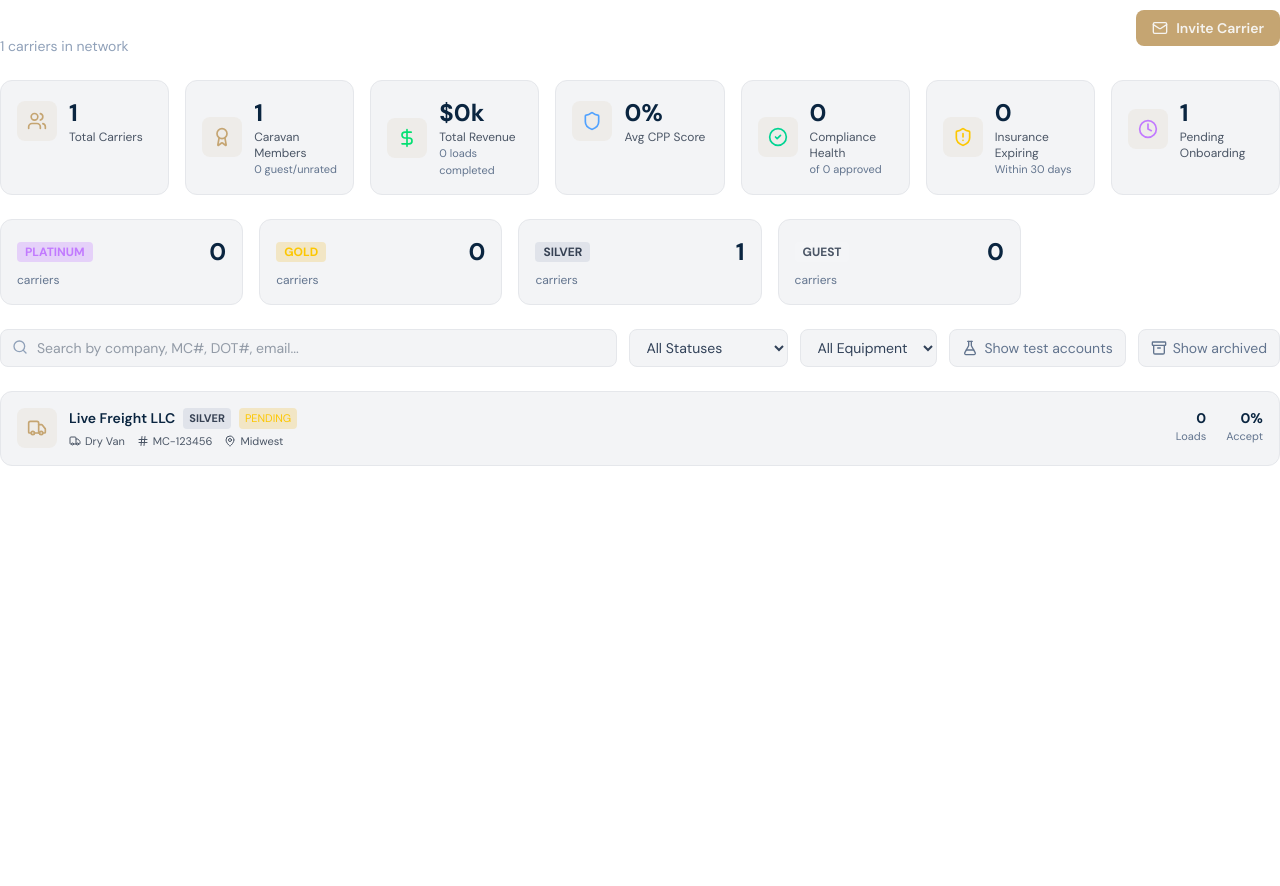
Scenario: Terminating an agreement says what it ends › the Quick Pay dialog says Quick Pay stops and tendering does not, and so does the banner
Expected: the text "Live Freight LLC" is shown, [69,408,175,428]
Click the button "Live Freight LLC": (37, 428) [0,391,1279,466]
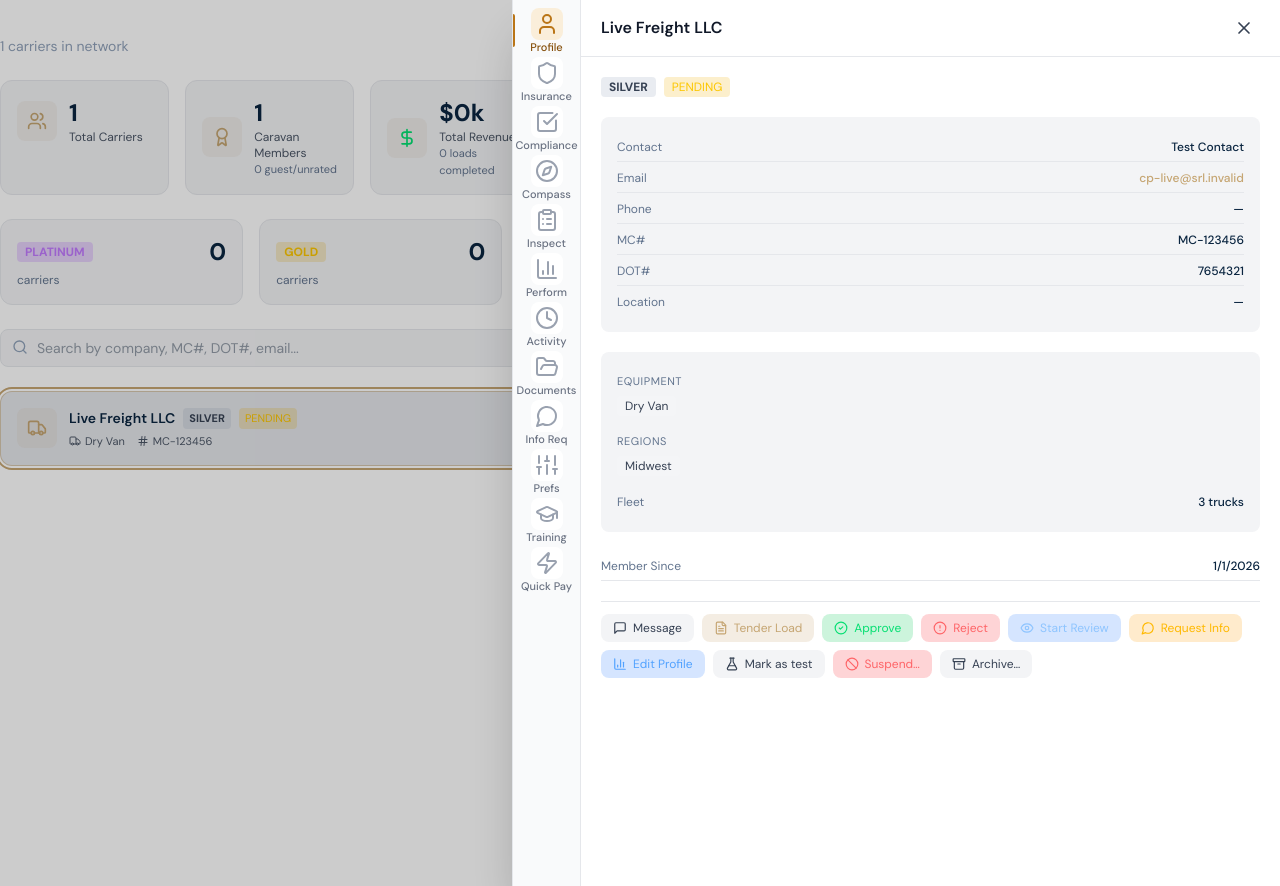
Click the button "Compliance": (546, 128) [513,106,580,151]
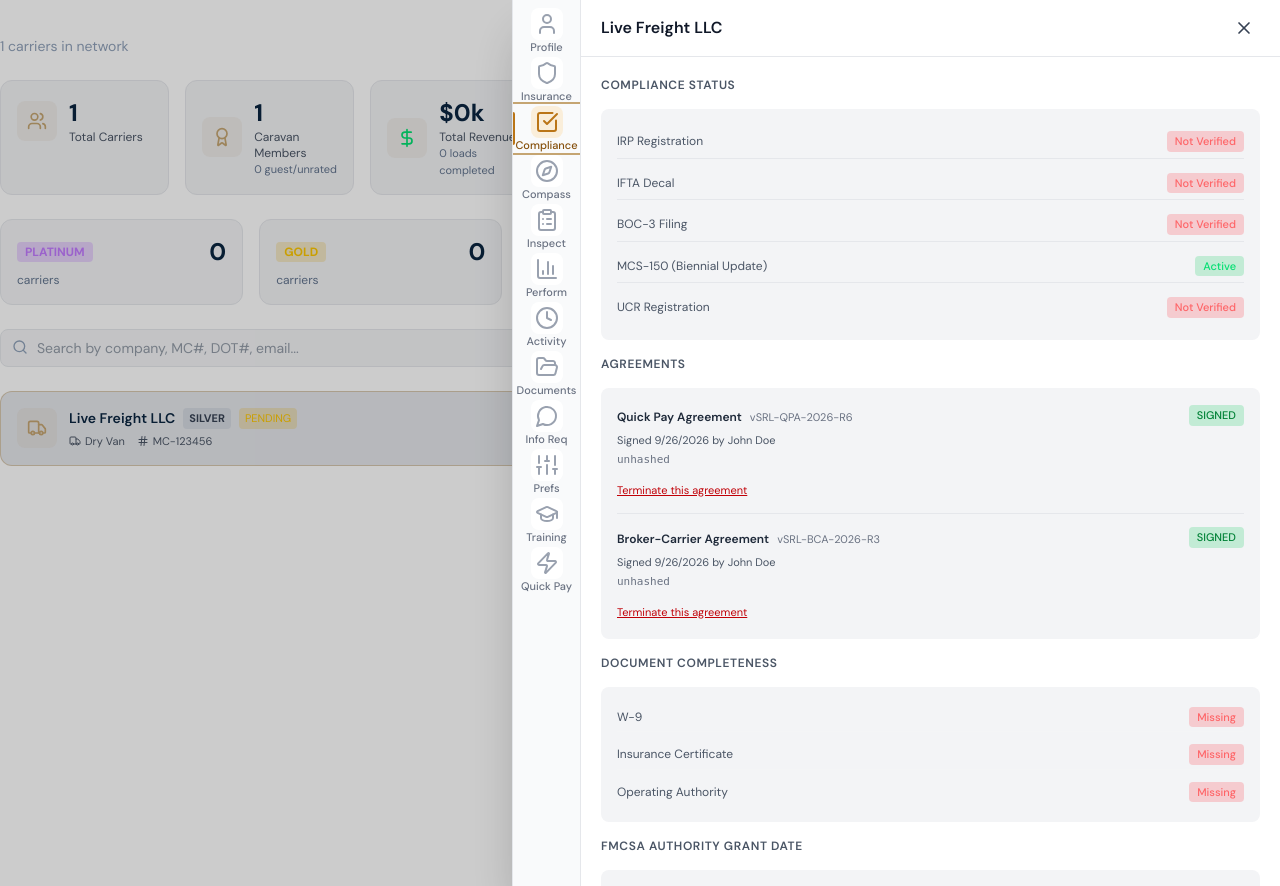
Now the number of buttons "Terminate this agreement" is 2
Click the button "Terminate this agreement" below "Quick Pay Agreement": (682, 490) [617,482,747,498]
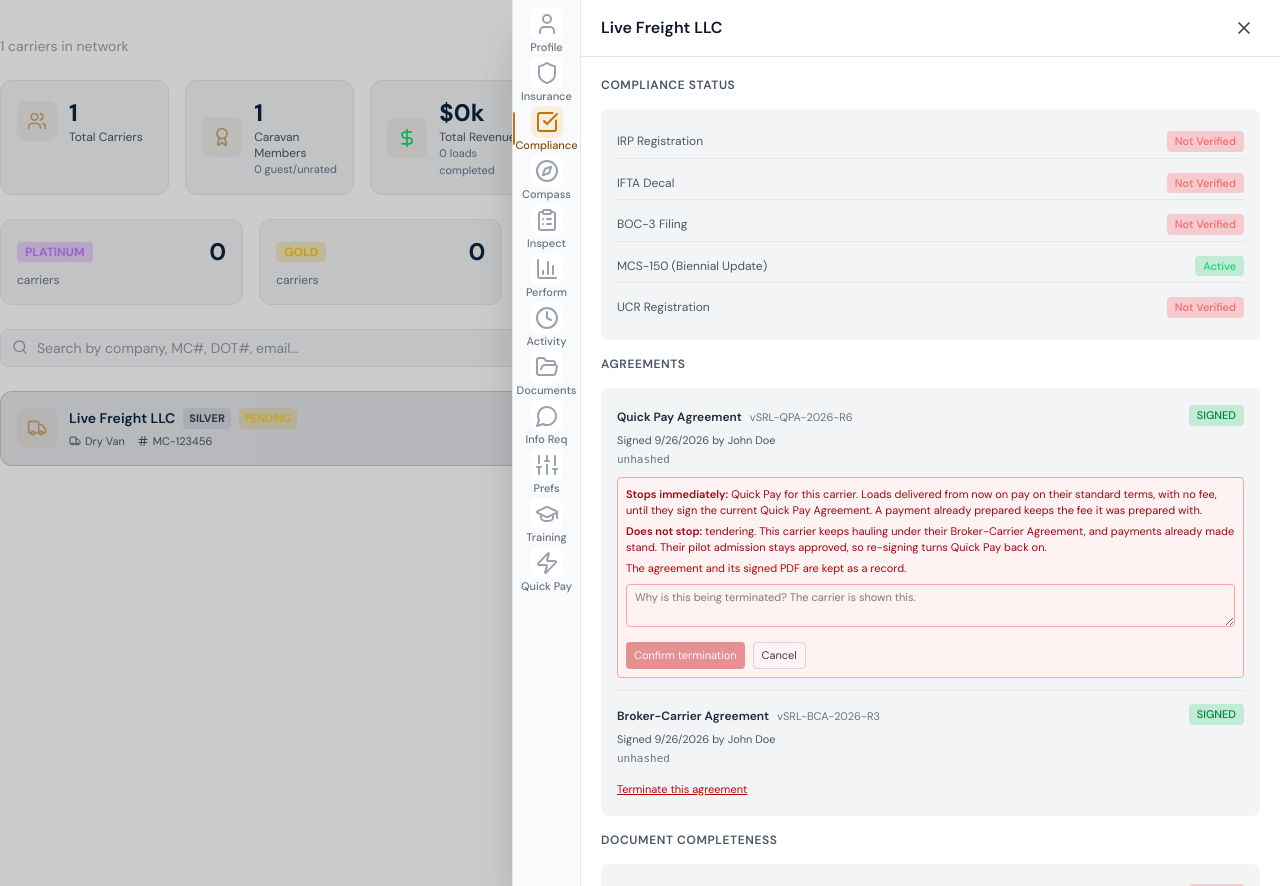
Now the dialog shows "Quick Pay for this carrier", box [626,486,1217,517]
In the text box with placeholder "Why is this being terminated? The carrier is shown this.": (930, 606) [626,584,1235,627], type "Reversing a test signature"
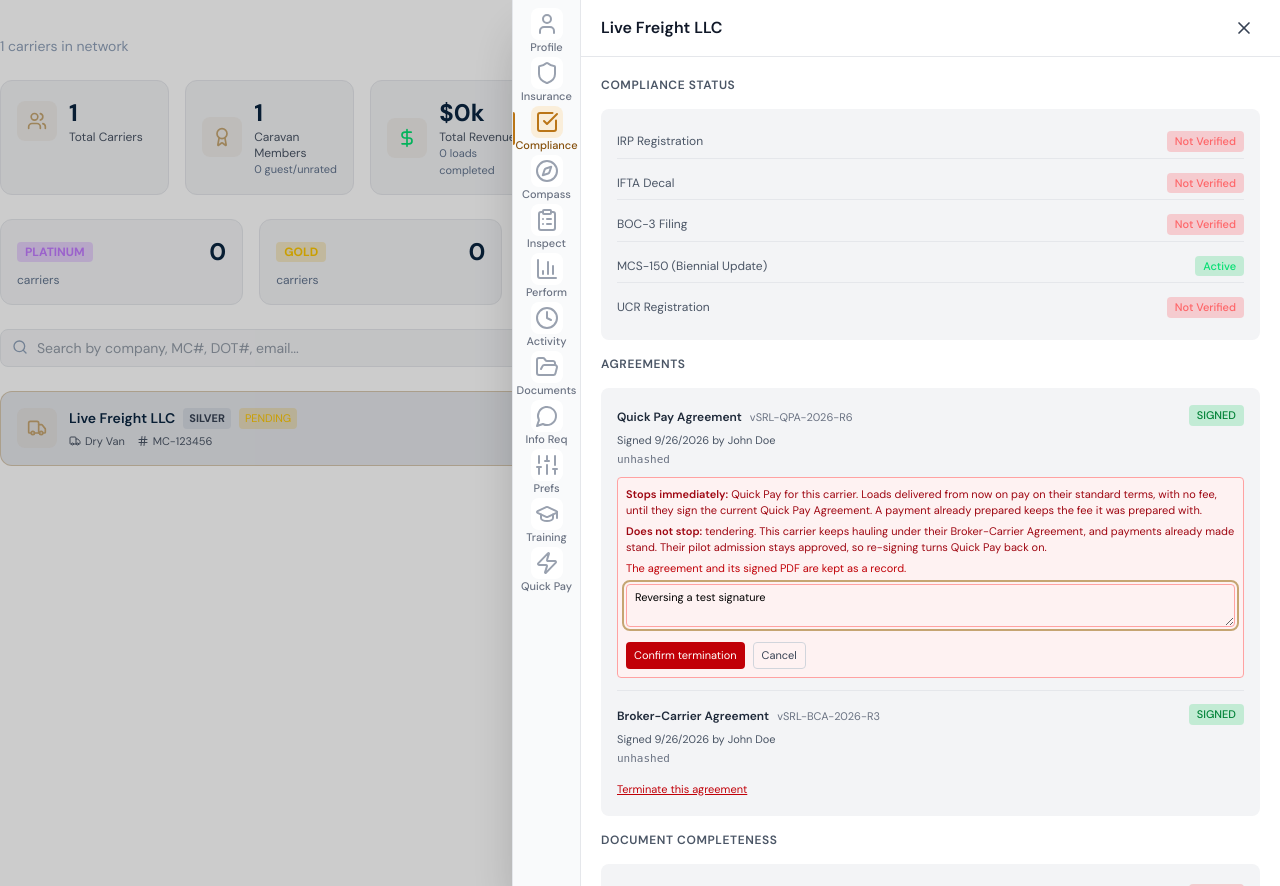
Click the button "Confirm termination": (685, 655) [626,642,745,668]
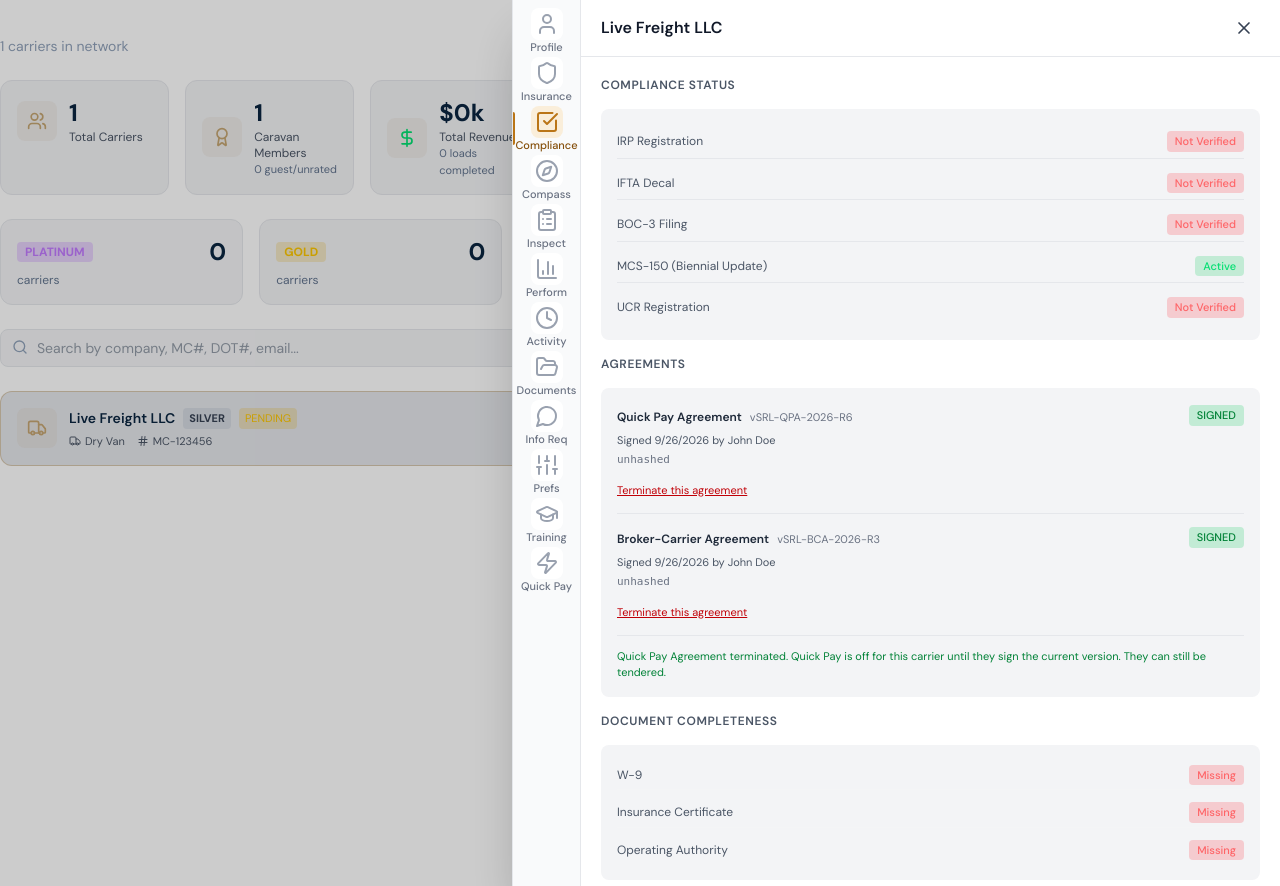
Now the text "Quick Pay is off for this carrier" is shown, box [617,648,1206,679]
